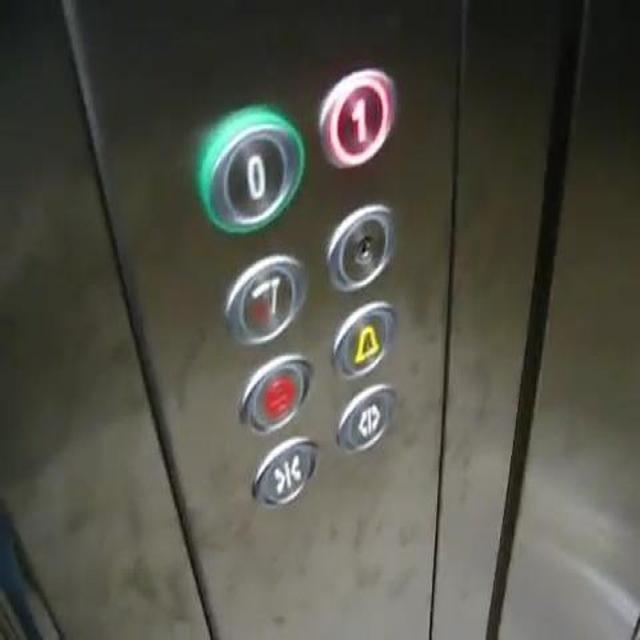0: (193, 102, 305, 234)
1: (316, 64, 400, 168)
alarm: (327, 298, 399, 382)
blur: (236, 352, 315, 435)
bt_keyhole: (326, 204, 397, 293)
close: (249, 435, 323, 508)
open: (332, 381, 401, 455)
unknown: (219, 248, 309, 343)
